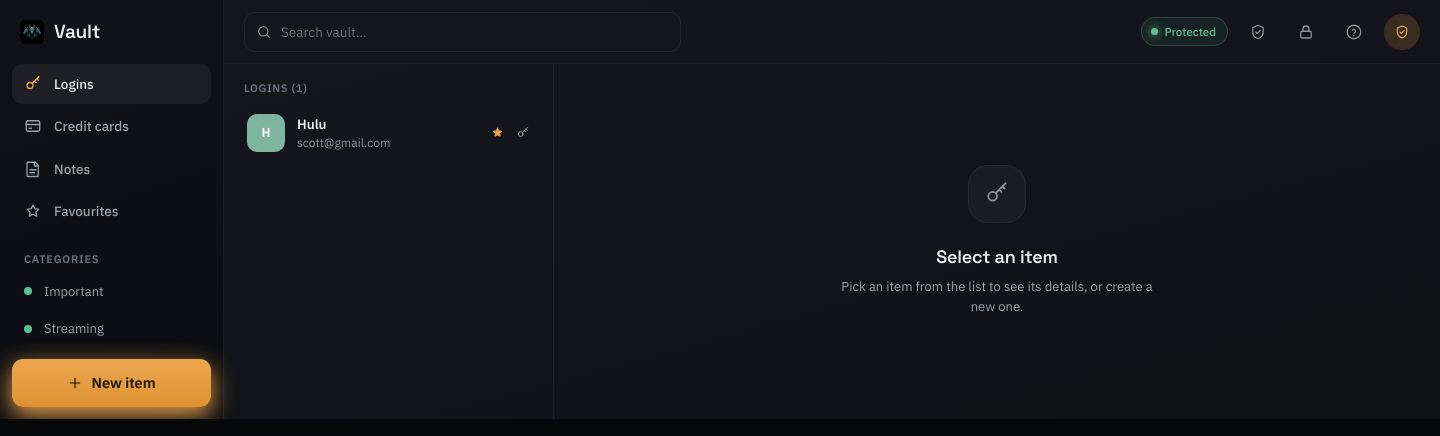
Scenario: VaultView — redesigned vault (nav, search, detail) › search narrows the current section
Expected: the text "Hulu" is shown, [297, 114, 327, 132]
Type "zzz" into the field labelled "Search vault" at (462, 32), box [244, 12, 681, 52]
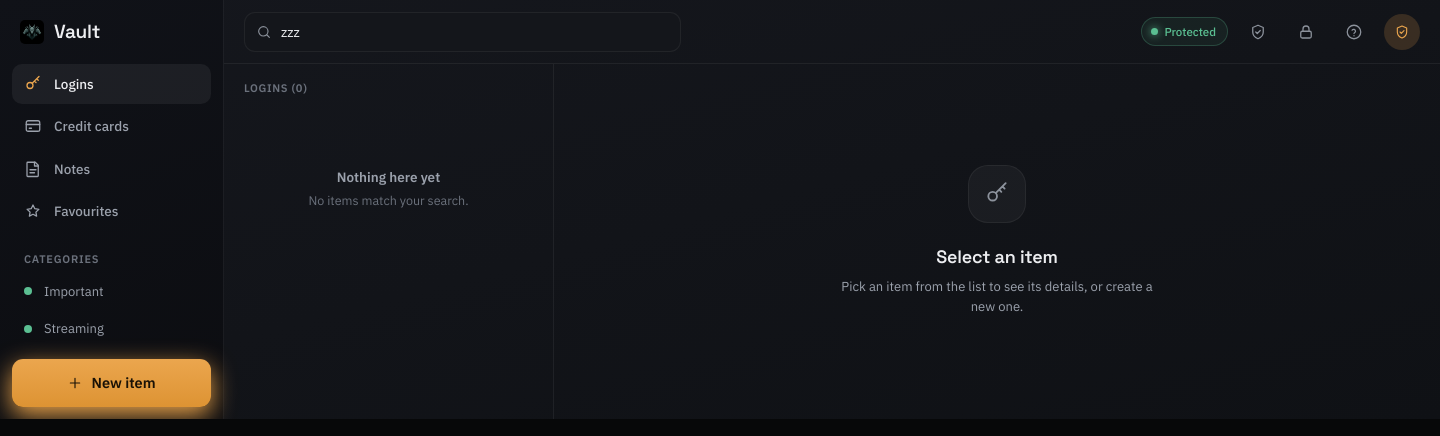
Result: the button "Hulu" is gone
